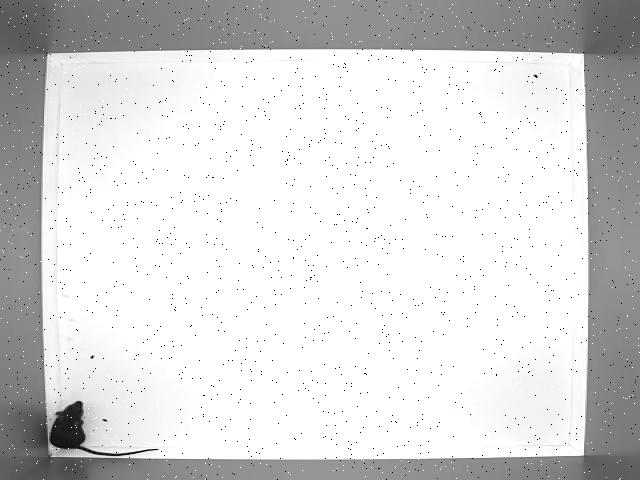Tikus: (49, 398, 162, 458)
